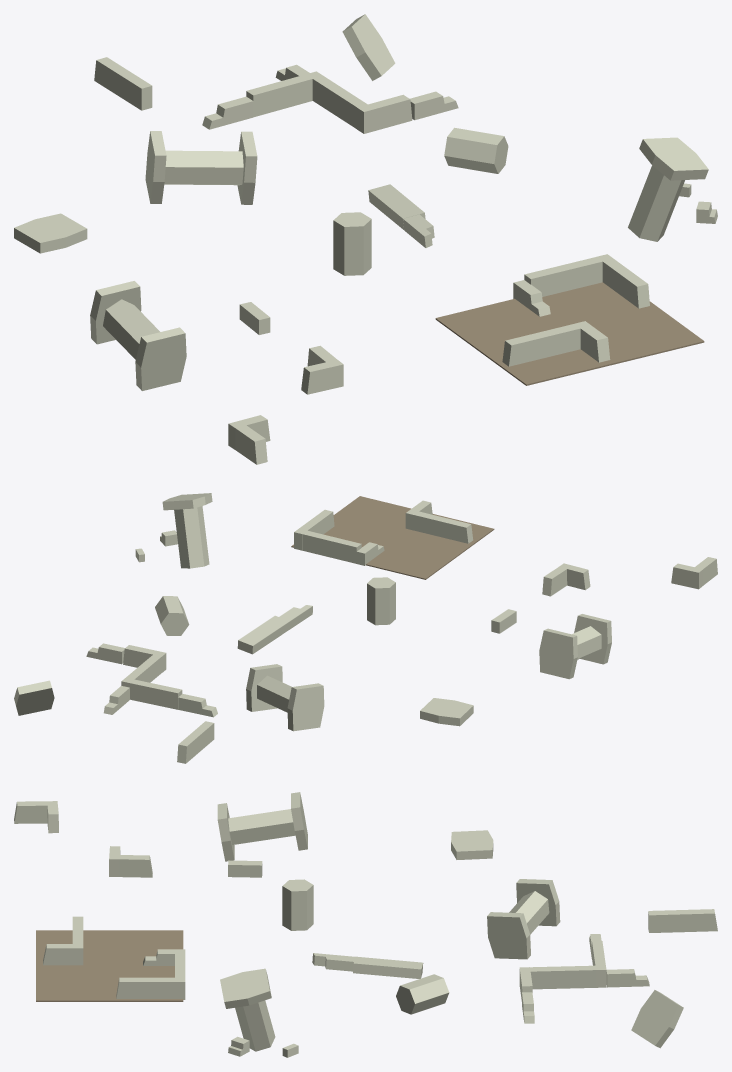
The model's file is largerRuins.fbx.
The picture shows the model from 3 angles, top to bottom: view 1: azimuth 30°, elevation 25°; view 2: azimuth 150°, elevation 25°; view 3: azimuth 270°, elevation 25°; orthographic projection. The views are drawn at different scales.
Parts seen in each view (by area): view 1: pCube23, columnSmall8 (×3), columnSmall10 (×3), columnSmall9 (×3), columnSmall29, columnSmall30, pCube15, columnSmall28, pCube17, pCube38, pCube39, pCube41 (+11 smaller); view 2: pCube23, columnSmall9 (×3), columnSmall8 (×3), columnSmall10 (×3), columnSmall29, pCube17, pCube15, pCube38, columnSmall28, pCube50, columnSmall30, pCube39 (+11 smaller); view 3: pCube23, columnSmall10 (×3), columnSmall8 (×3), columnSmall9 (×3), pCube39, columnSmall29, columnSmall30, pCube18, pCube35, pCube50, columnSmall28, pCube16 (+7 smaller).
Boxes of the visible parts, <box> form: pCube23: <box>435,282,704,385</box>; columnSmall8 (×3): <box>103,150,684,359</box>; columnSmall10 (×3): <box>135,14,395,390</box>; columnSmall9 (×3): <box>90,131,708,344</box>; columnSmall29: <box>333,212,371,275</box>; columnSmall30: <box>444,127,508,173</box>; pCube15: <box>502,324,580,366</box>; columnSmall28: <box>14,213,87,253</box>; pCube17: <box>524,256,603,296</box>; pCube38: <box>246,71,323,117</box>; pCube39: <box>94,57,152,110</box>; pCube41: <box>357,94,412,133</box>; pCube23: <box>291,496,494,579</box>; columnSmall9 (×3): <box>162,493,577,731</box>; columnSmall8 (×3): <box>174,506,601,712</box>; columnSmall10 (×3): <box>14,614,611,715</box>; columnSmall29: <box>367,577,395,625</box>; pCube17: <box>302,530,361,563</box>; pCube15: <box>414,511,473,543</box>; pCube38: <box>121,677,182,709</box>; columnSmall28: <box>420,698,473,726</box>; pCube50: <box>237,615,289,654</box>; columnSmall30: <box>155,596,189,635</box>; pCube39: <box>177,721,214,763</box>; pCube23: <box>36,930,183,1001</box>; columnSmall10 (×3): <box>217,803,683,1048</box>; columnSmall8 (×3): <box>228,809,549,1051</box>; columnSmall9 (×3): <box>220,792,560,1008</box>; pCube39: <box>648,909,717,932</box>; columnSmall29: <box>282,879,313,930</box>; columnSmall30: <box>396,974,449,1014</box>; pCube18: <box>116,977,185,999</box>; pCube35: <box>529,965,595,989</box>; pCube50: <box>353,956,423,978</box>; columnSmall28: <box>451,830,493,859</box>; pCube16: <box>43,944,83,965</box>.
Size of the model in its own units: 26.19 by 4.5 by 32.6.
